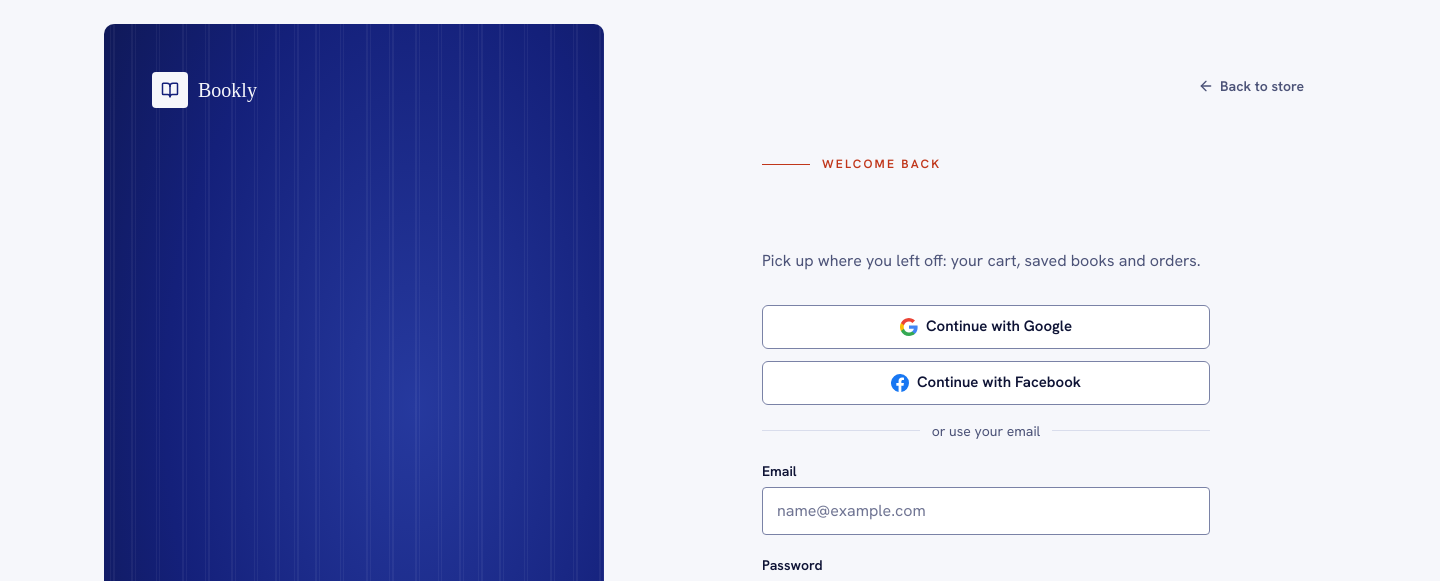
Test: social sign-in › says when Google's script couldn't load
This screenshot has width=1440, height=581.
Click the button "Continue with Google".
click(986, 327)  # box [762,305,1210,349]
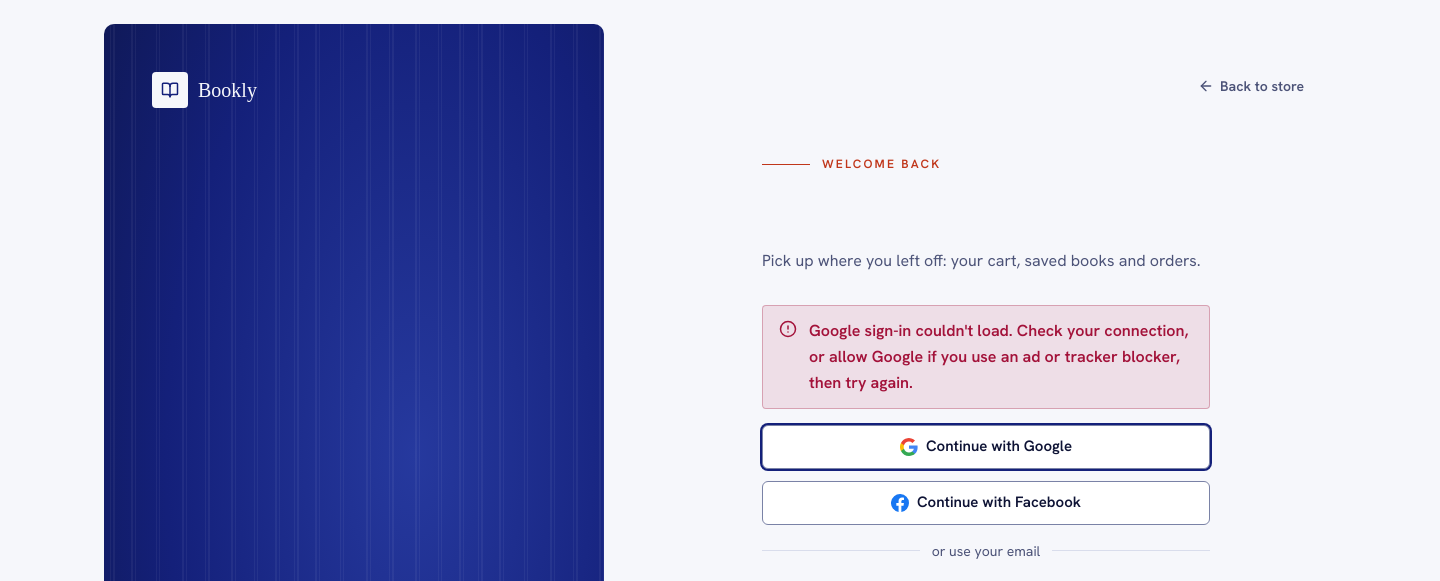
Check: the text "Google sign-in couldn't load" is shown, box [809,320,1188,393]
